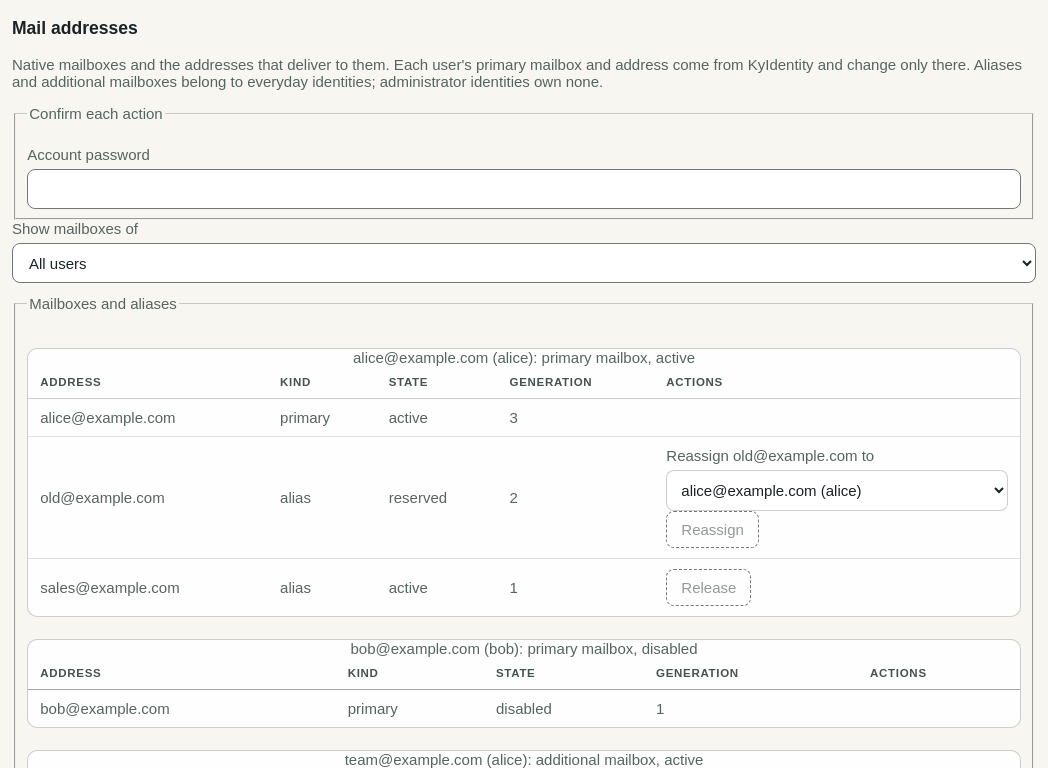
Test: locks changes when a success answer does not match the request
Expected: the text "sales@example.com" is shown, [28,559,268,616]
Type "account-secret" into the password field labelled "Account password" at (524, 189), box [27,169,1021,209]
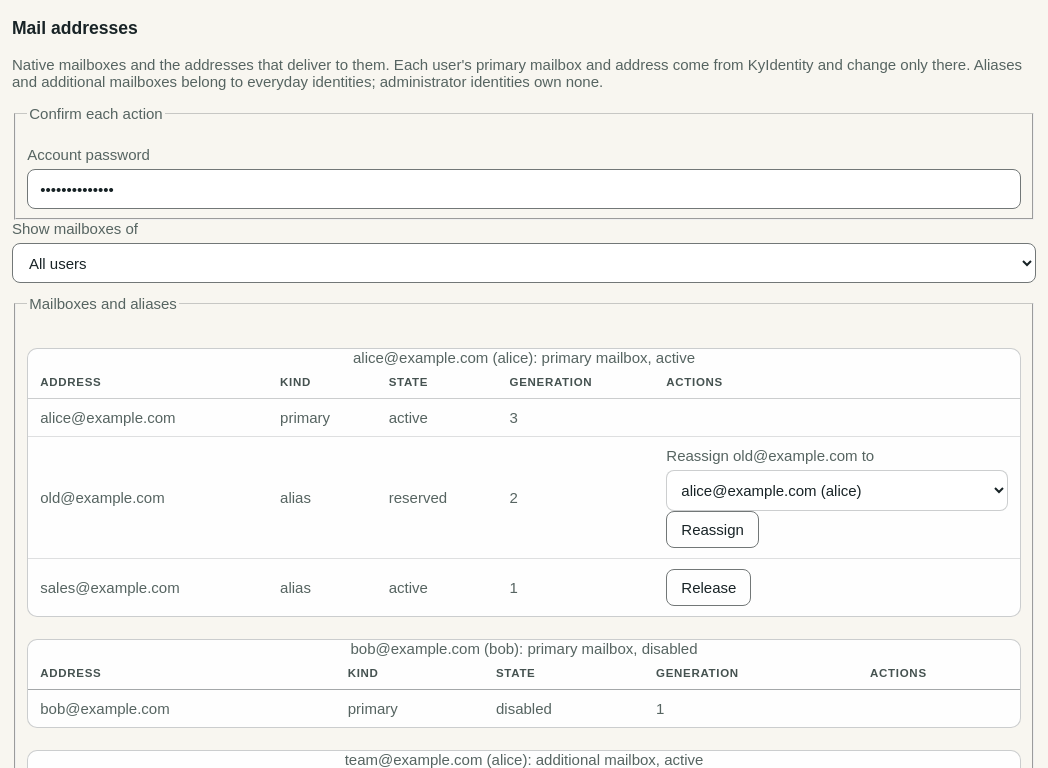
Click the button with aria-label "Release sales@example.com" at (709, 588), box [666,570,751,606]
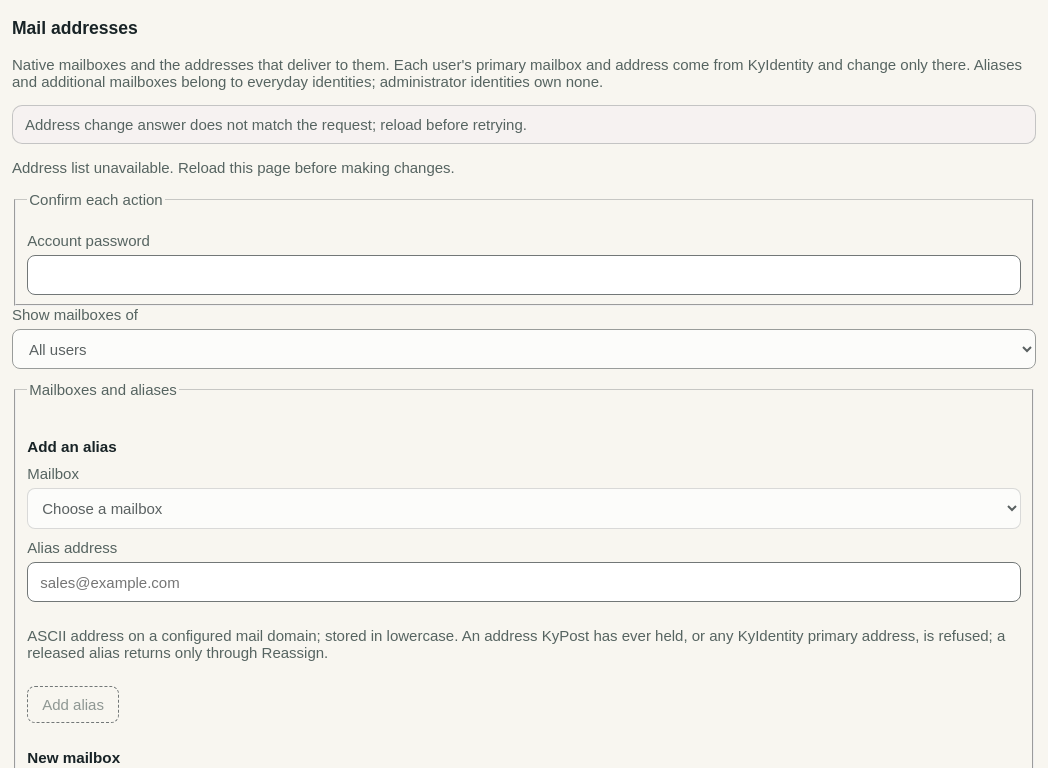
Expected: the message shows "does not match the request", [25,116,527,133]
Expected: the element "Confirm each action" is disabled, [14,191,1034,306]
